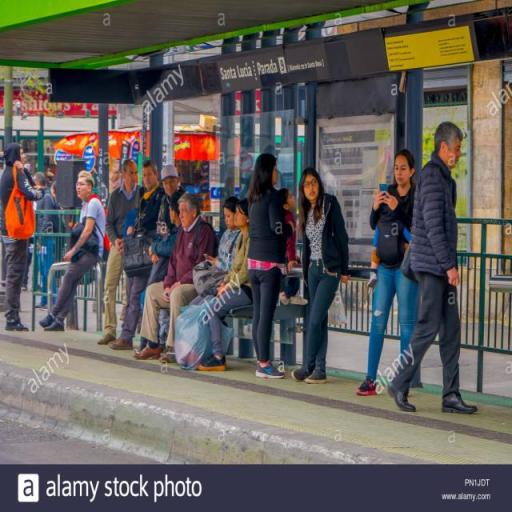person: (388, 119, 481, 419), (389, 123, 478, 415), (357, 150, 419, 397), (359, 152, 418, 400), (135, 194, 217, 363), (293, 169, 352, 385), (293, 168, 350, 385), (40, 172, 107, 333), (110, 161, 166, 351), (43, 171, 107, 336), (111, 158, 163, 352), (248, 154, 292, 380), (199, 200, 253, 373), (248, 153, 289, 379), (1, 144, 43, 333), (99, 160, 141, 348), (99, 159, 141, 346), (1, 146, 41, 332), (140, 189, 185, 353), (192, 197, 241, 306), (36, 172, 64, 308), (279, 189, 309, 307), (149, 189, 185, 287), (36, 173, 61, 310), (207, 197, 241, 273), (158, 165, 185, 238)
